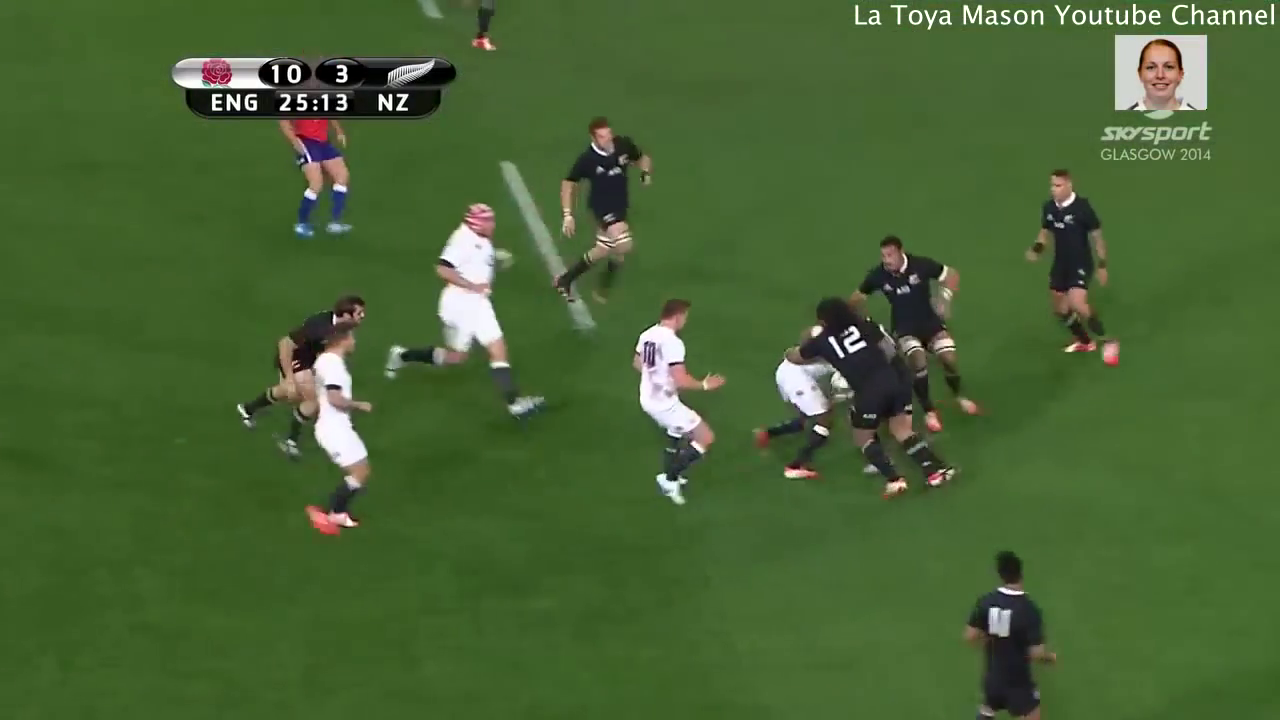ball: (826, 361, 859, 406)
player: (373, 186, 556, 430), (780, 293, 959, 507), (849, 217, 986, 434), (620, 279, 731, 514), (544, 102, 659, 322), (228, 284, 370, 458), (945, 540, 1067, 720), (1021, 158, 1125, 368), (301, 323, 383, 544), (741, 330, 849, 496), (273, 112, 363, 238)
